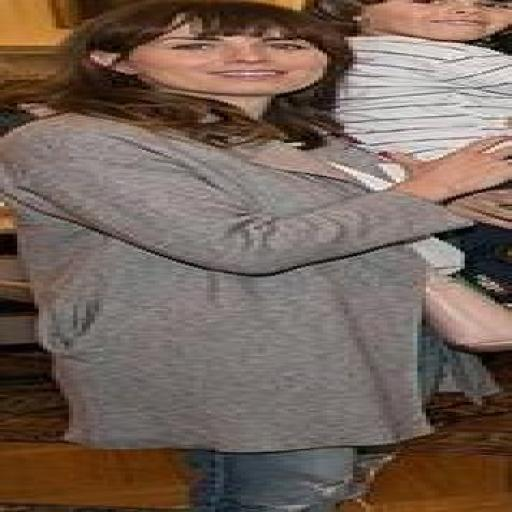person: (0, 0, 511, 511), (306, 0, 511, 158)
